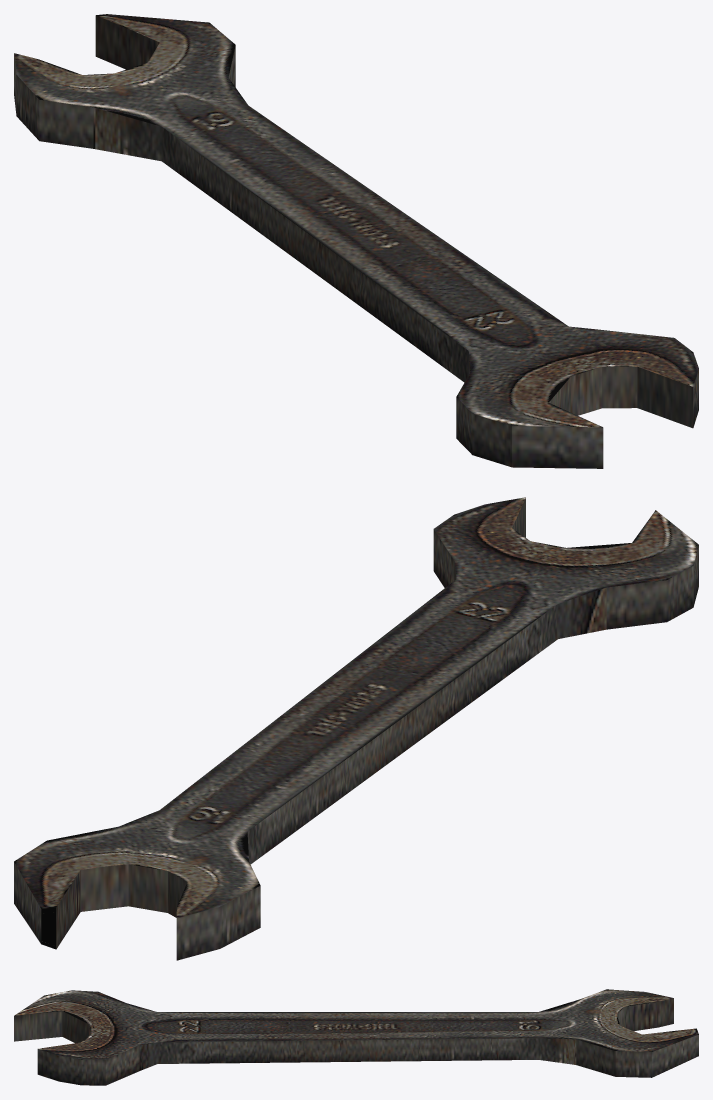
File: tool.fbx
The picture shows the model from 3 angles, top to bottom: view 1: azimuth 30°, elevation 25°; view 2: azimuth 150°, elevation 25°; view 3: azimuth 270°, elevation 25°; orthographic projection. The views are drawn at different scales.
Visible parts, largest first — view 1: tool_Layer1; view 2: tool_Layer1; view 3: tool_Layer1.
Part boxes in pixels (x1,y1,x2,y2): tool_Layer1: (14, 14, 698, 468); tool_Layer1: (14, 497, 698, 960); tool_Layer1: (14, 989, 698, 1085).
Bounding box in the file's own units: 35.01 × 5.98 × 144.
1 material, 1 textured.
